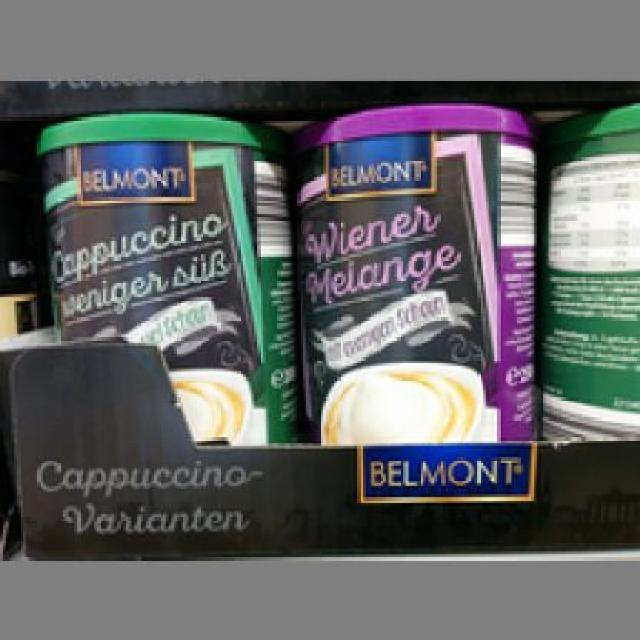Coffee: (31, 108, 292, 444), (286, 100, 540, 443)
